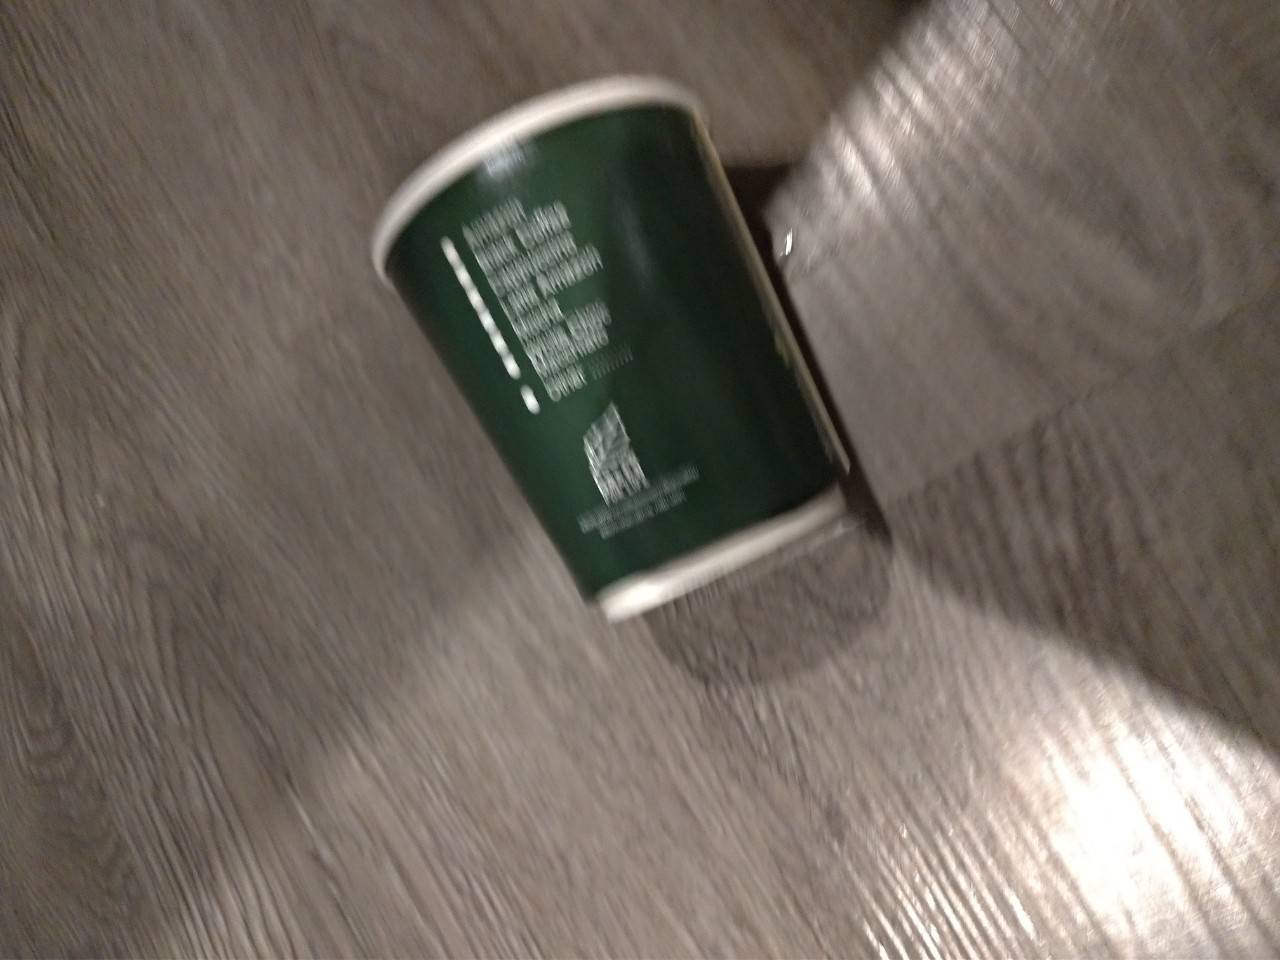PaperCup: (373, 77, 846, 624)
